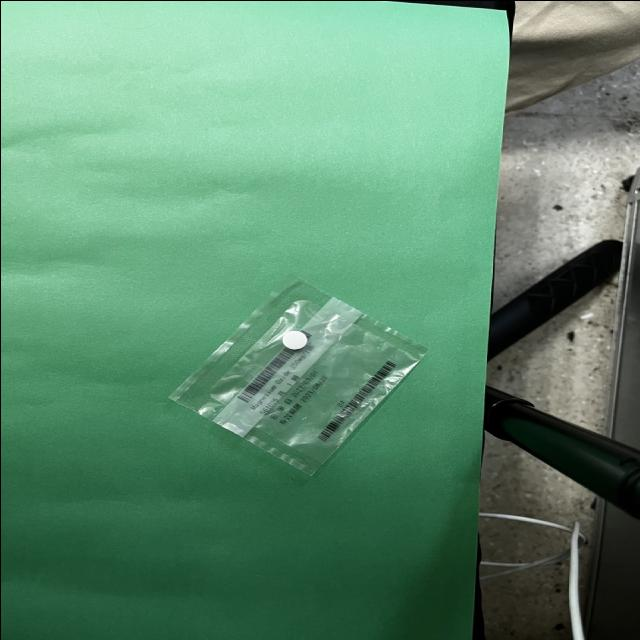Other Objects: (169, 280, 425, 474)
